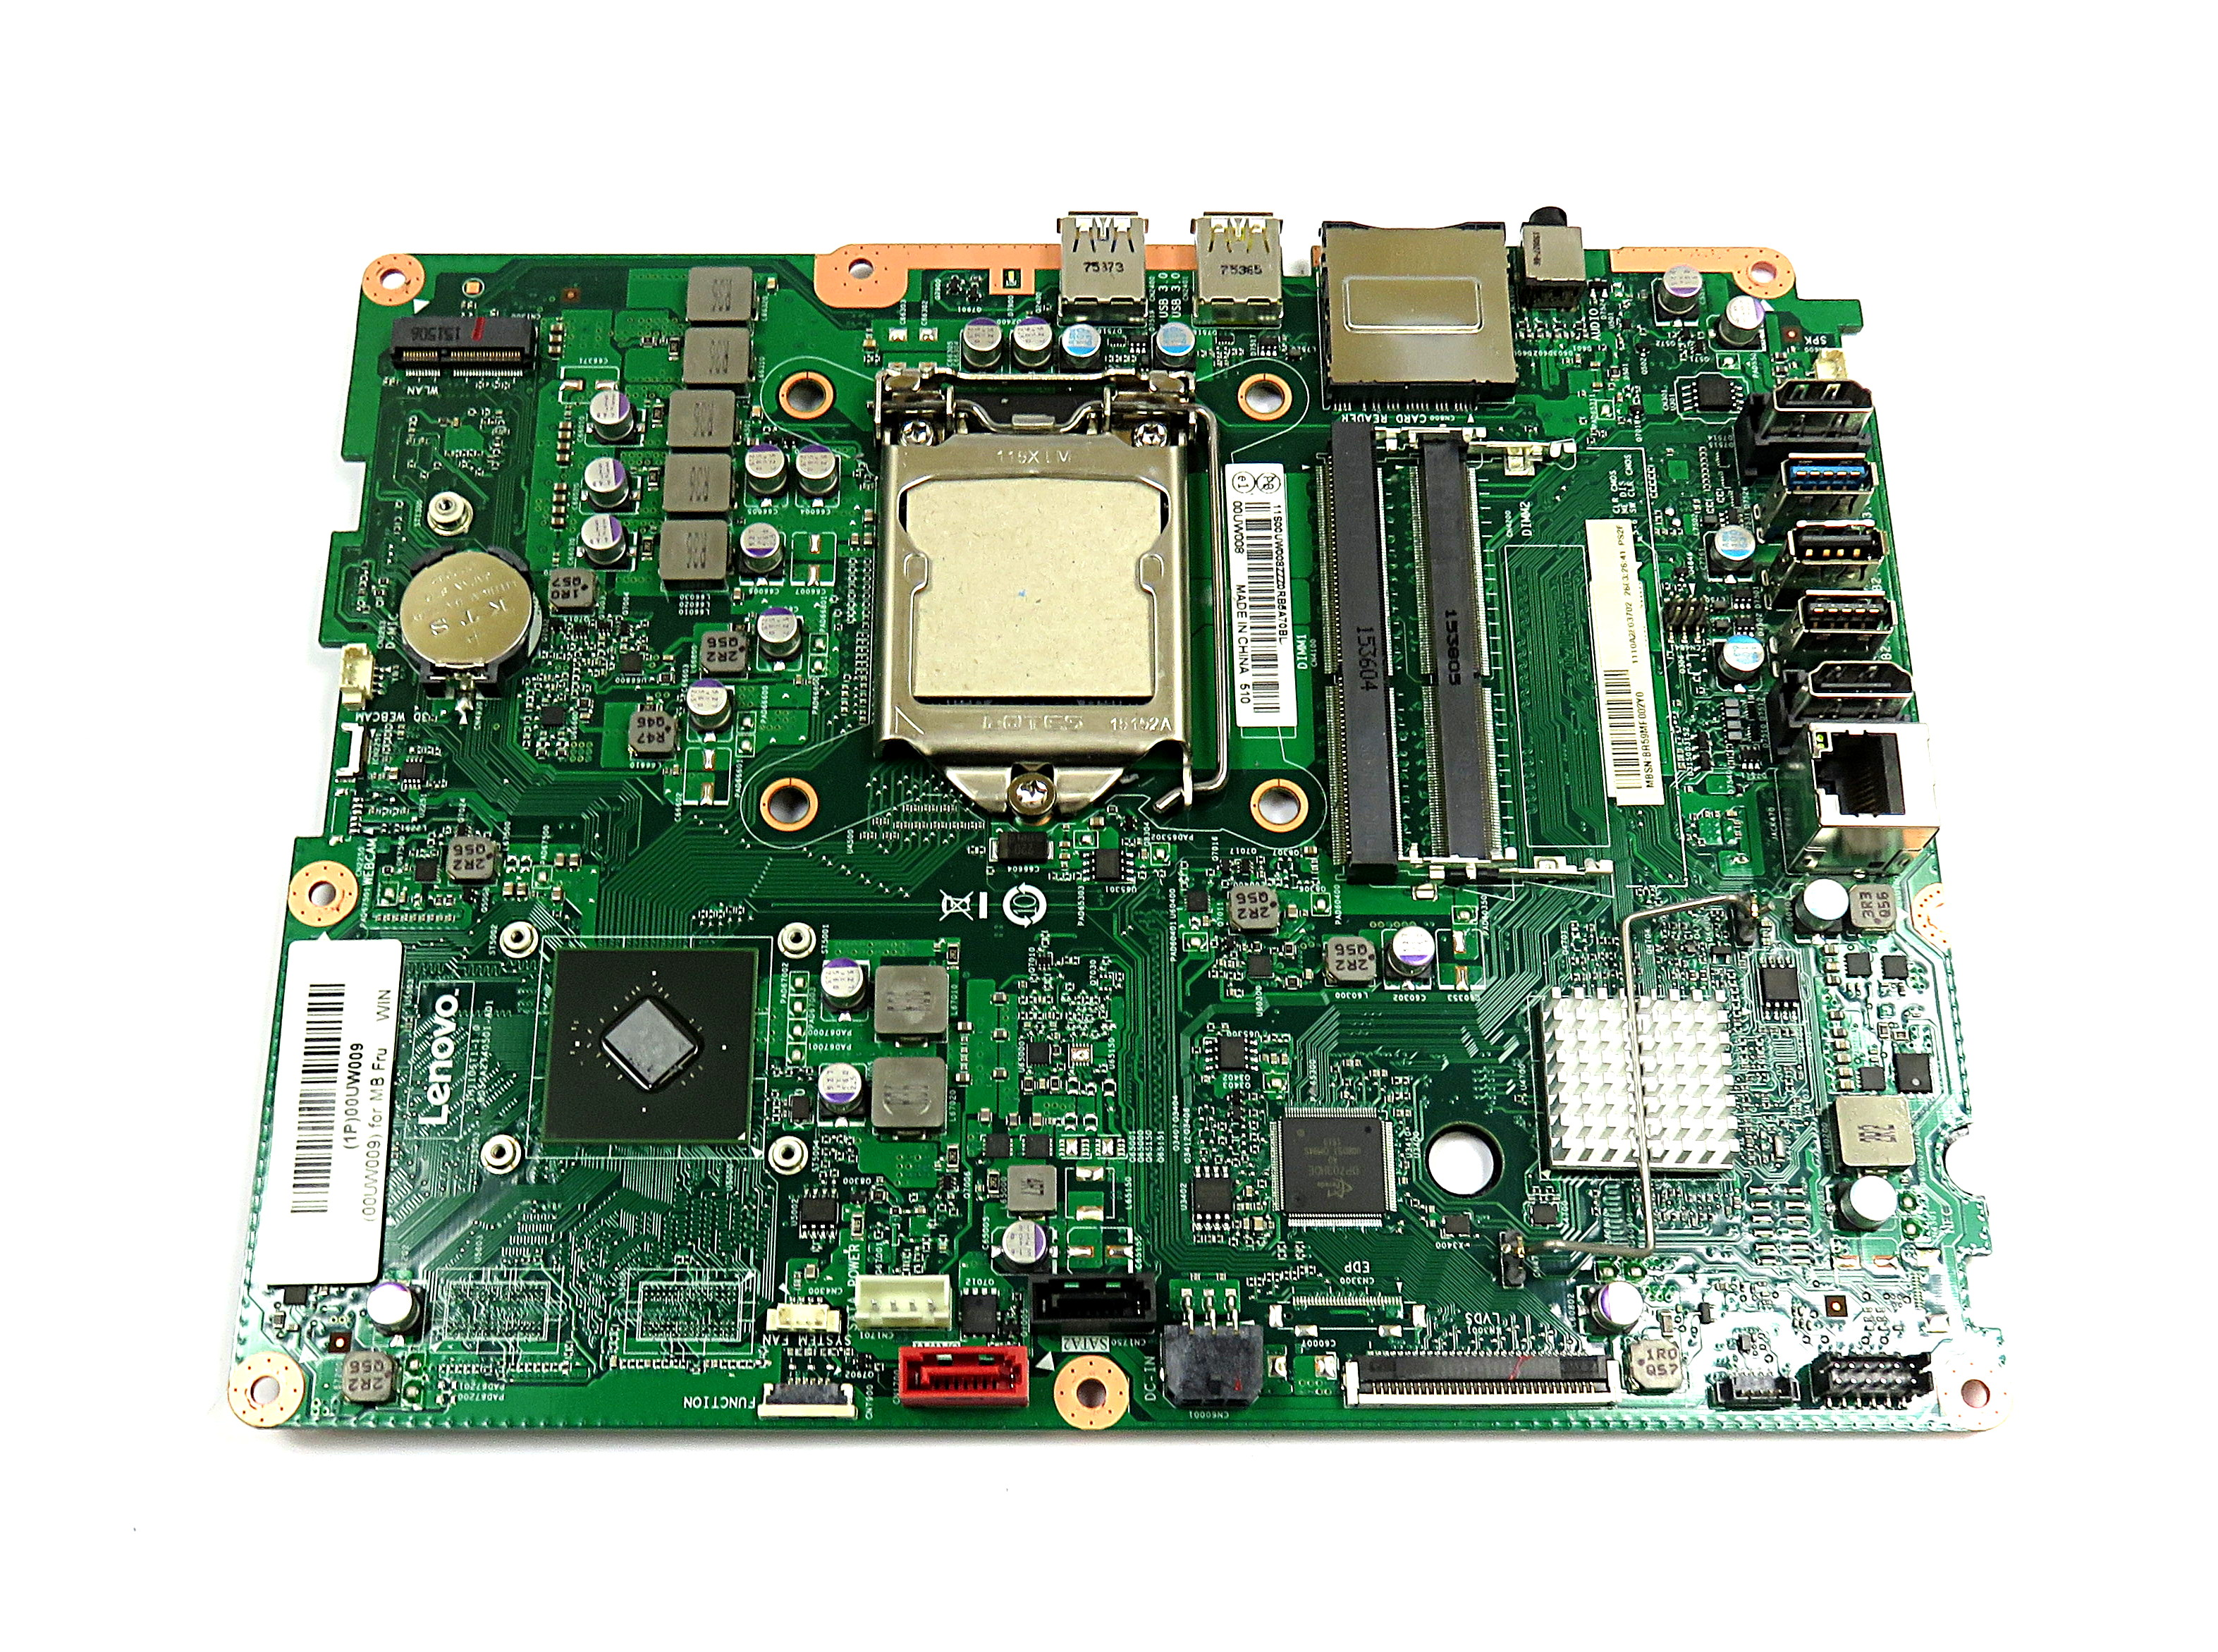Motherboard: (194, 158, 2119, 1517)
